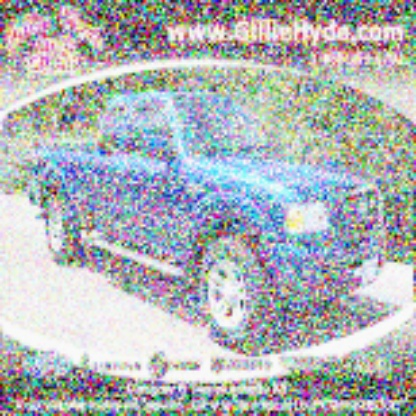Vehicle: (27, 101, 389, 354)
